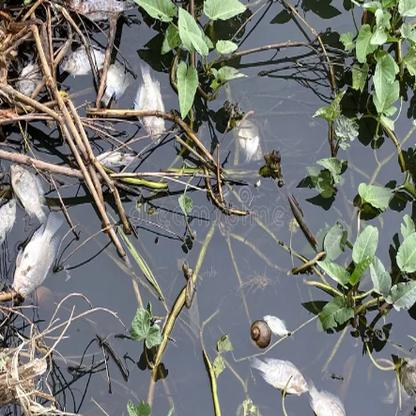deceased fish: (13, 205, 66, 297), (242, 354, 309, 399), (131, 59, 165, 147), (6, 161, 50, 220), (59, 47, 122, 69), (307, 381, 346, 416)
